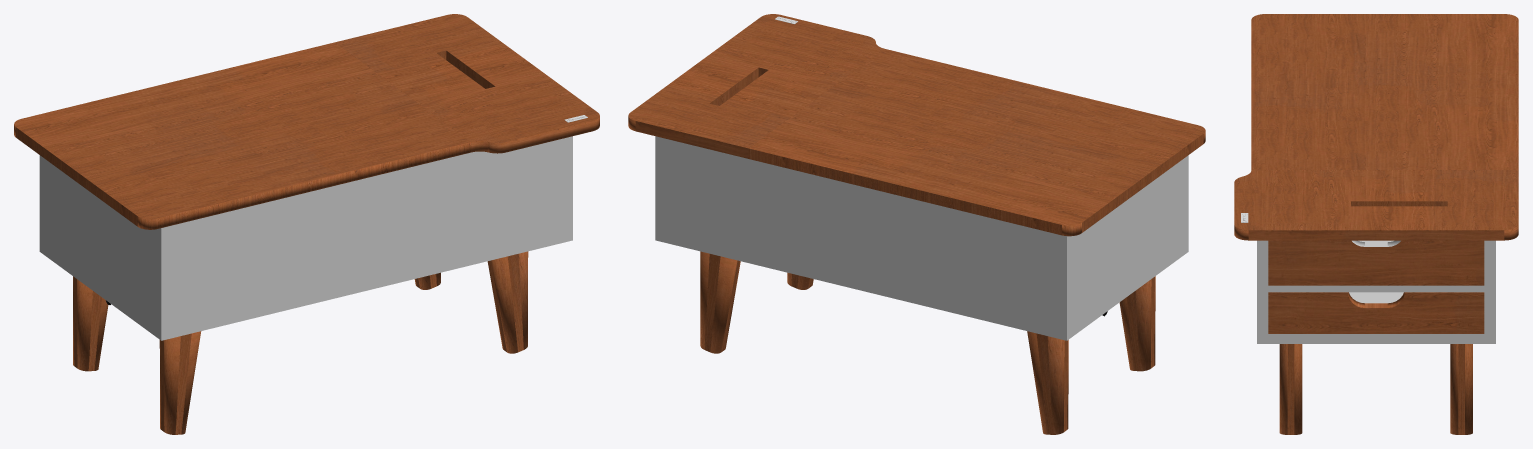
The model's file is luna-lift-up.glb.
3 renders of one model, left to right at view 1: azimuth 30°, elevation 25°; view 2: azimuth 150°, elevation 25°; view 3: azimuth 270°, elevation 25°, orthographic.
Parts seen in each view (by area): view 1: body, tutup atas; view 2: body, tutup atas; view 3: tutup atas, body, tutup tempat tisu, laci bawah.
Boxes of the visible parts, x1=… form: body: x1=39, y1=14, x2=599, y2=434; tutup atas: x1=14, y1=42, x2=470, y2=229; body: x1=628, y1=14, x2=1188, y2=434; tutup atas: x1=748, y1=49, x2=1205, y2=236; tutup atas: x1=1251, y1=14, x2=1518, y2=169; body: x1=1234, y1=170, x2=1518, y2=434; tutup tempat tisu: x1=1268, y1=240, x2=1484, y2=285; laci bawah: x1=1268, y1=292, x2=1484, y2=333.
Bounding box in the file's own units: 0.8996 × 0.4539 × 0.5001.
Materials: 7 (1 with a texture image).
